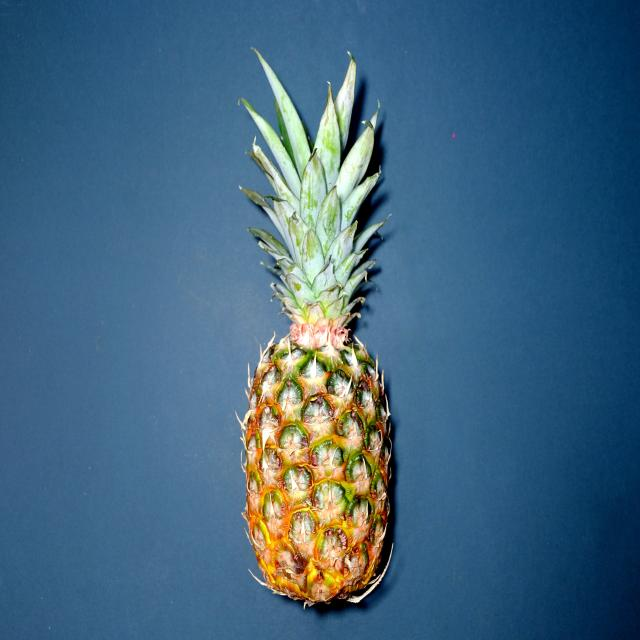pineapple: (239, 46, 397, 619)
